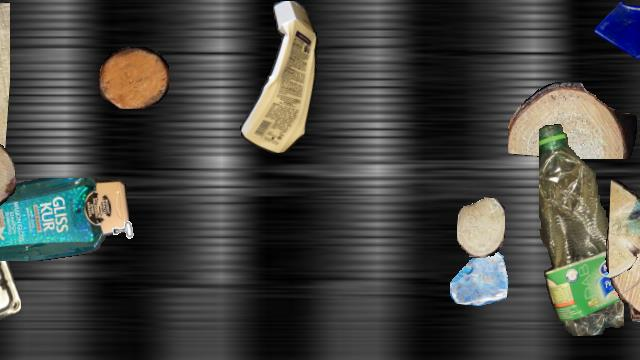glass: (450, 247, 508, 305), (593, 1, 640, 65)
metal: (103, 197, 147, 241)
plastic: (539, 123, 623, 335), (234, 1, 322, 153), (0, 178, 129, 260), (0, 149, 21, 359)
wood: (508, 82, 636, 158), (99, 47, 169, 109), (605, 225, 640, 331), (609, 180, 640, 278), (457, 197, 505, 257), (0, 1, 9, 159), (0, 138, 16, 210)
